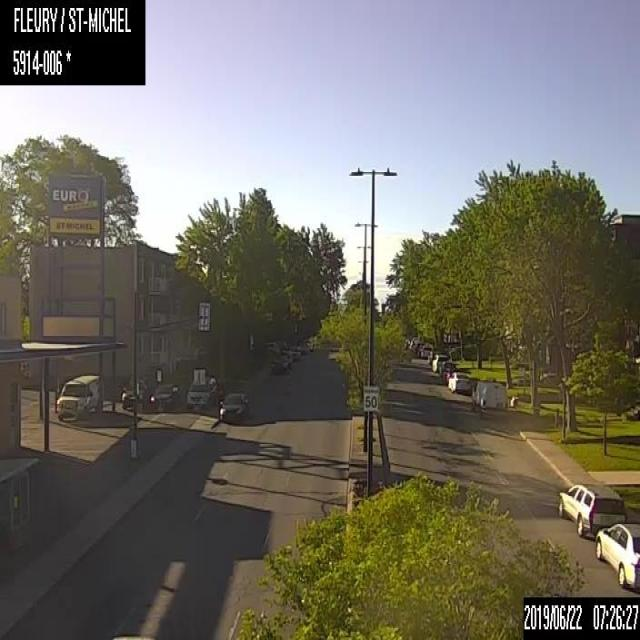vehicle: (557, 483, 626, 535), (595, 523, 639, 592), (56, 372, 102, 420), (471, 381, 506, 416), (184, 375, 217, 407), (219, 392, 248, 420), (149, 384, 180, 410), (121, 380, 147, 409), (448, 370, 470, 393), (270, 353, 290, 373), (440, 361, 457, 383), (432, 353, 448, 371), (416, 342, 432, 357), (427, 349, 441, 364), (289, 346, 300, 362), (327, 348, 338, 359), (264, 342, 276, 351)
